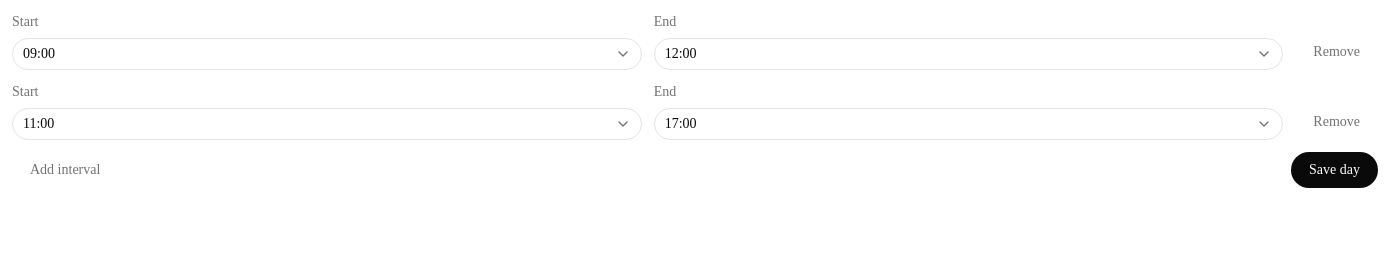
Test: AMA settings UI contract › reports both overlapping intervals before submitting the weekday
Step 1. Submit the form
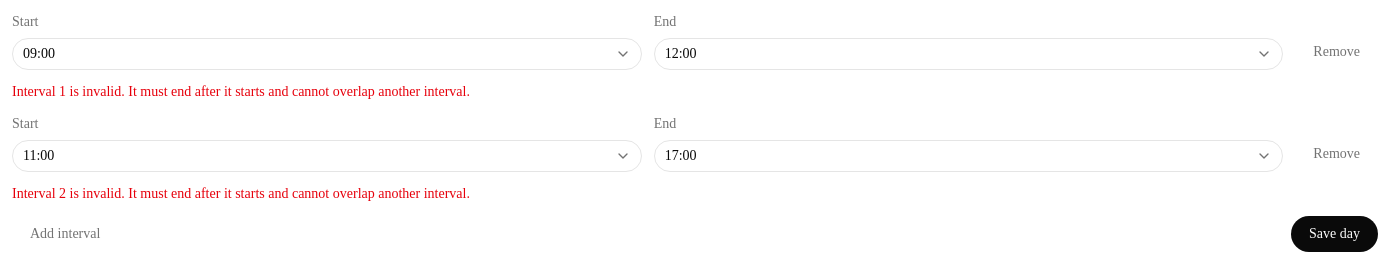
expect the number of dropdowns is 4: met, box left=12, top=38, right=642, bottom=70; left=654, top=38, right=1283, bottom=70; left=12, top=140, right=642, bottom=172; left=654, top=140, right=1283, bottom=172
expect the number of messages is 2: met, box left=12, top=84, right=470, bottom=99; left=12, top=186, right=470, bottom=201
Step 2. Click the 2nd button "Remove" → (1337, 154), box left=1295, top=136, right=1378, bottom=172
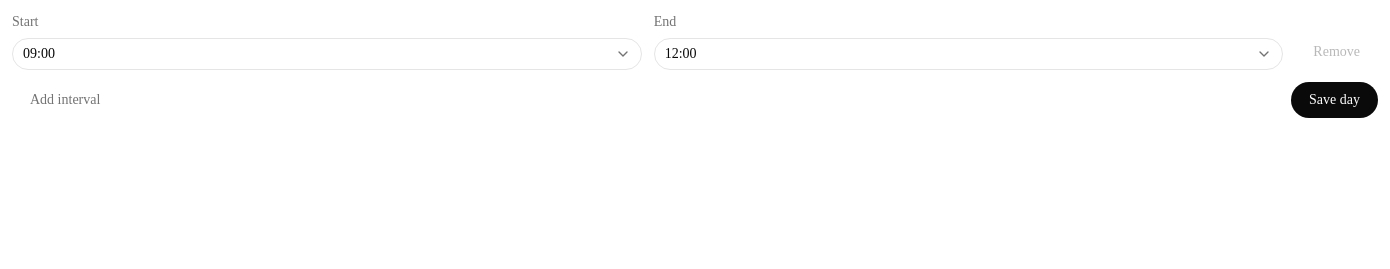
expect no messages are shown: met
